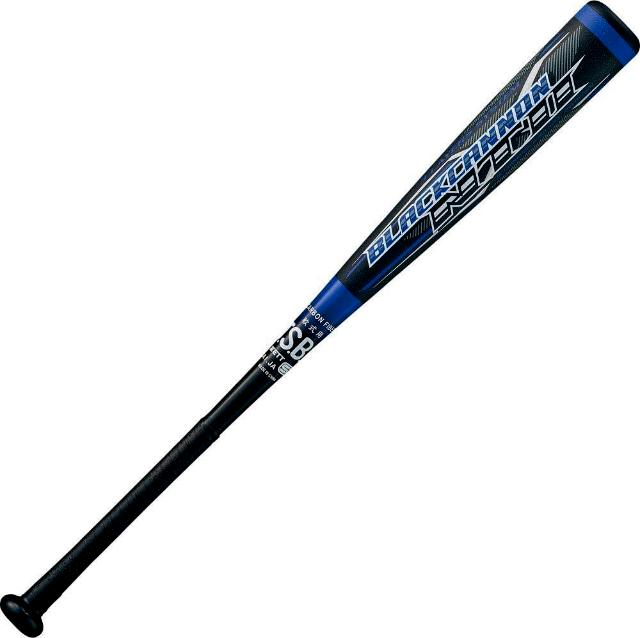baseball bat: (6, 0, 640, 638)
